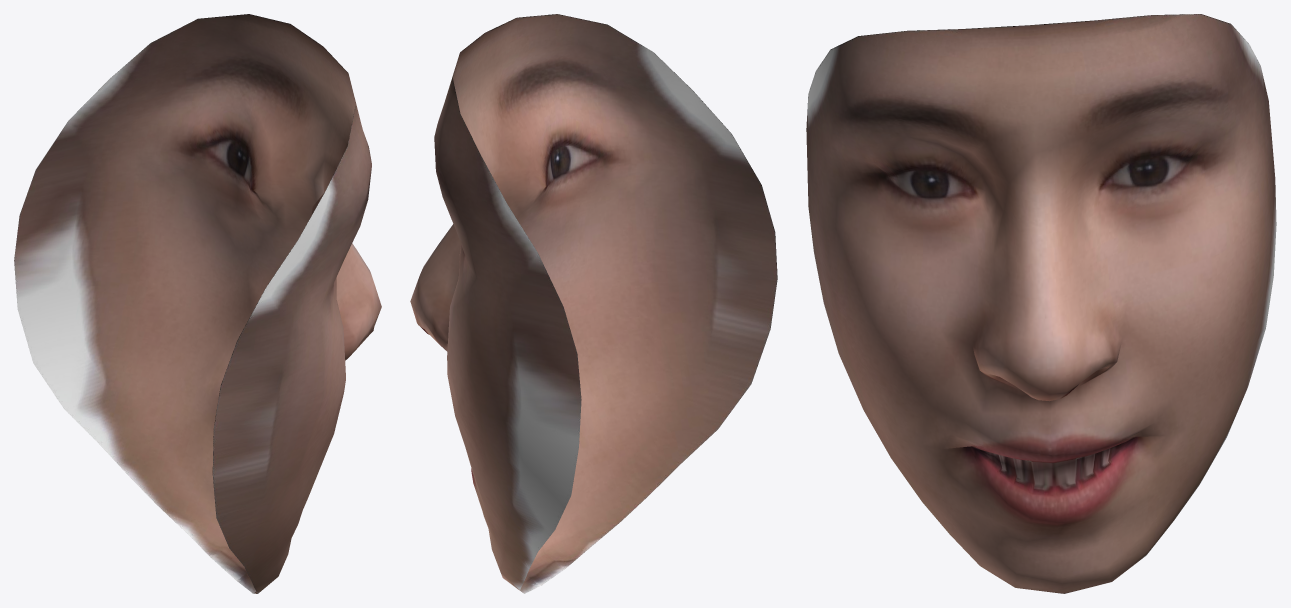
Rendered from bilibili_lifestyle.glb.
3 views of the same model, side by side, from view 1: azimuth 30°, elevation 25°; view 2: azimuth 150°, elevation 25°; view 3: azimuth 270°, elevation 25° (orthographic). The views are drawn at different scales.
Visible parts, largest first — view 1: bilibili_lifestyle; view 2: bilibili_lifestyle; view 3: bilibili_lifestyle.
Part boxes in pixels (box(x1,y1,x2,y2)): bilibili_lifestyle: box(14, 14, 381, 593); bilibili_lifestyle: box(410, 14, 777, 593); bilibili_lifestyle: box(806, 14, 1276, 593).
Bounding box in the file's own units: 0.456 × 0.8797 × 0.6127.
1 material, 1 textured.
